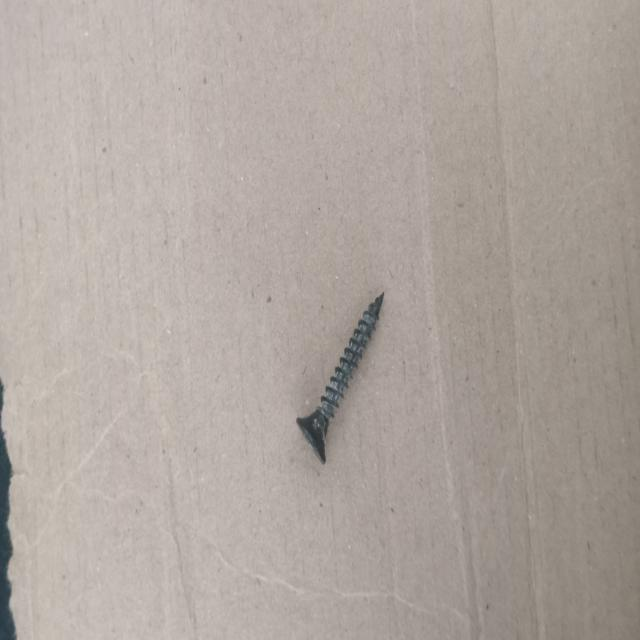screw: (296, 291, 386, 467)
